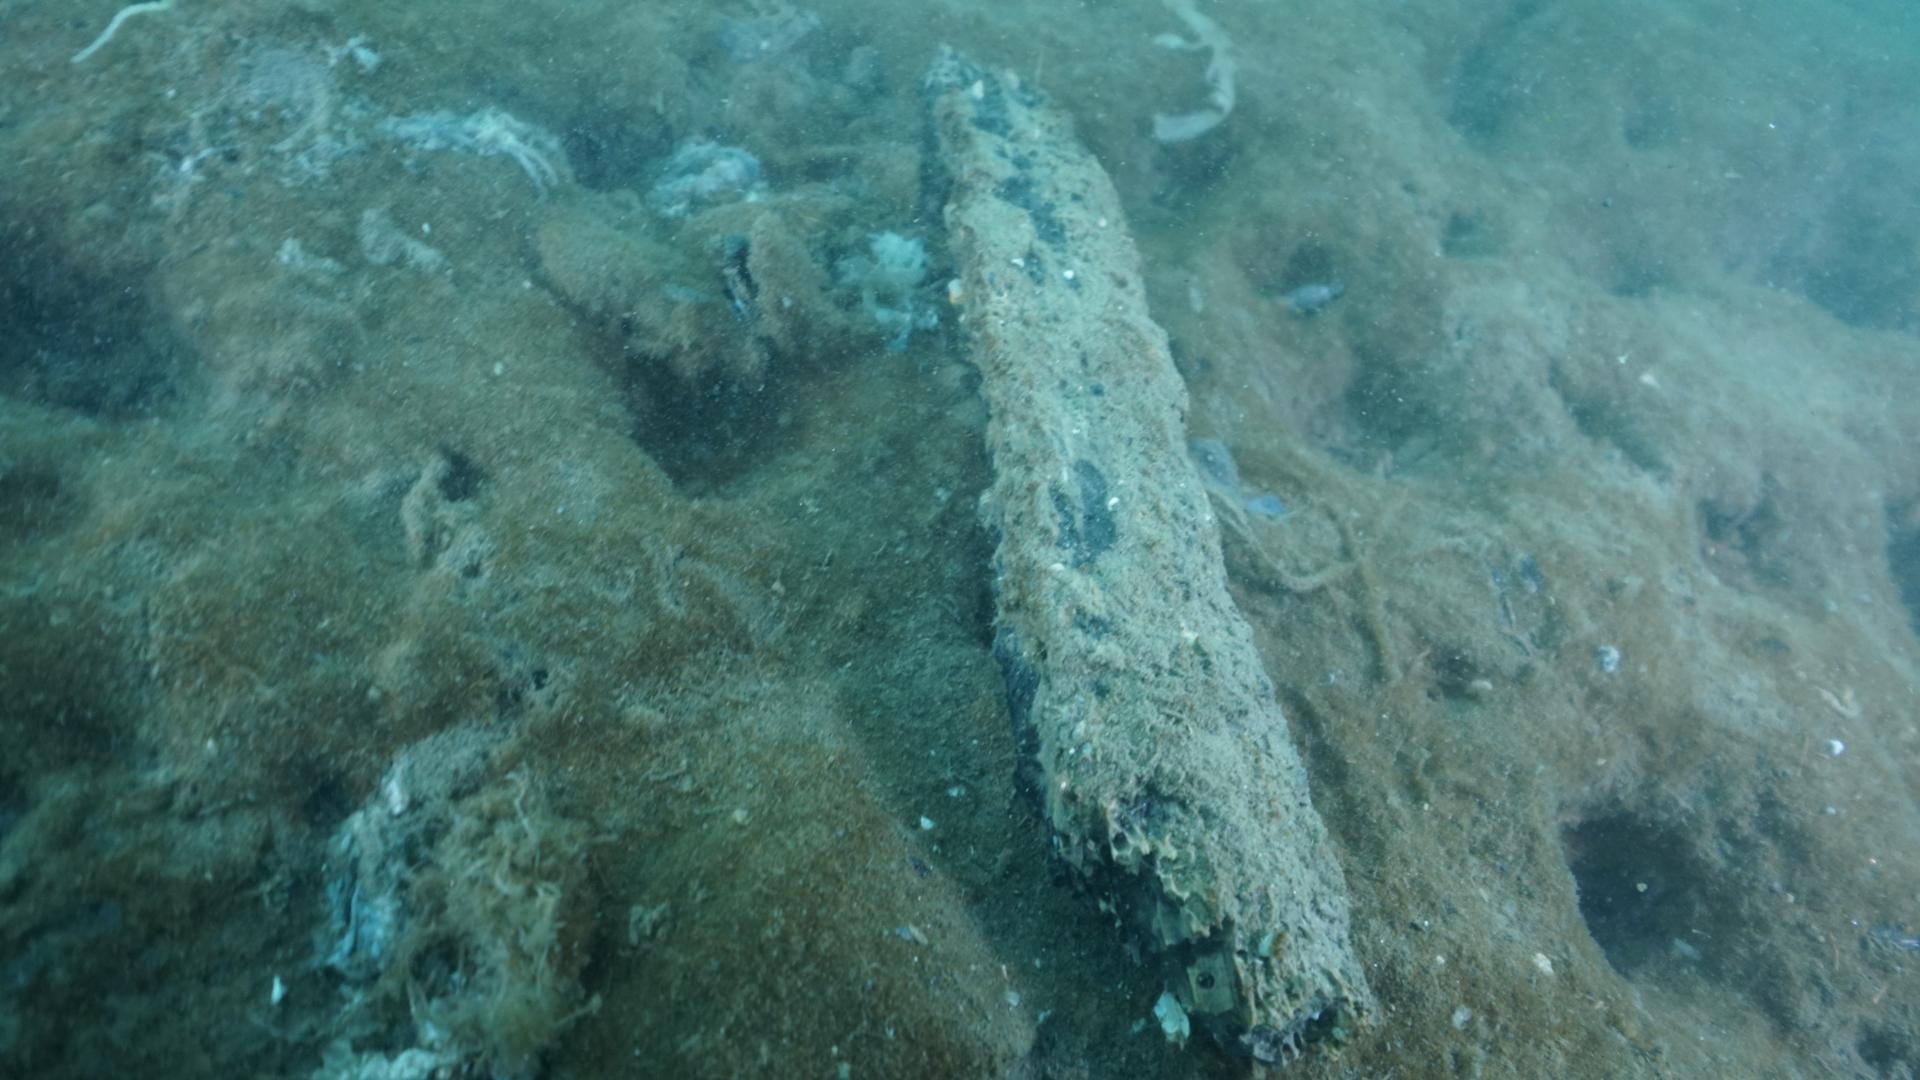wood: (916, 42, 1390, 1080)
